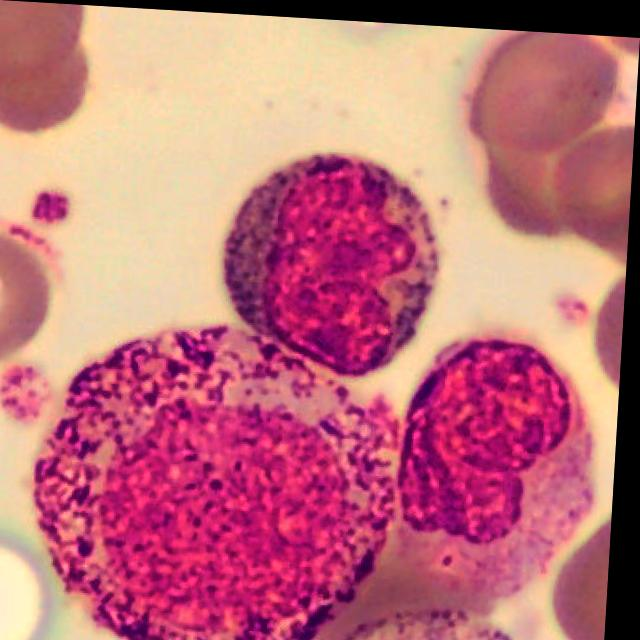Promielocito: (40, 324, 399, 640)
